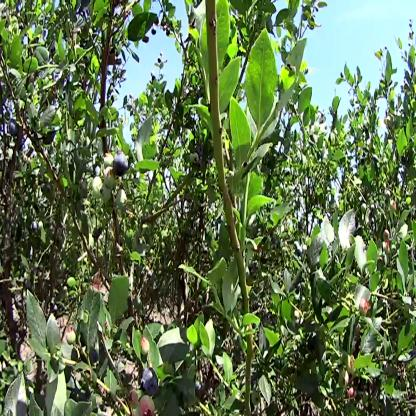intermediate: (135, 400, 158, 416), (139, 333, 152, 359), (358, 298, 372, 321), (389, 197, 399, 215)
mature: (139, 367, 158, 395), (113, 149, 131, 175)
young: (115, 187, 130, 214), (64, 327, 81, 350), (91, 178, 104, 201), (103, 173, 119, 191), (102, 150, 114, 169), (190, 152, 202, 167), (314, 119, 321, 138)
